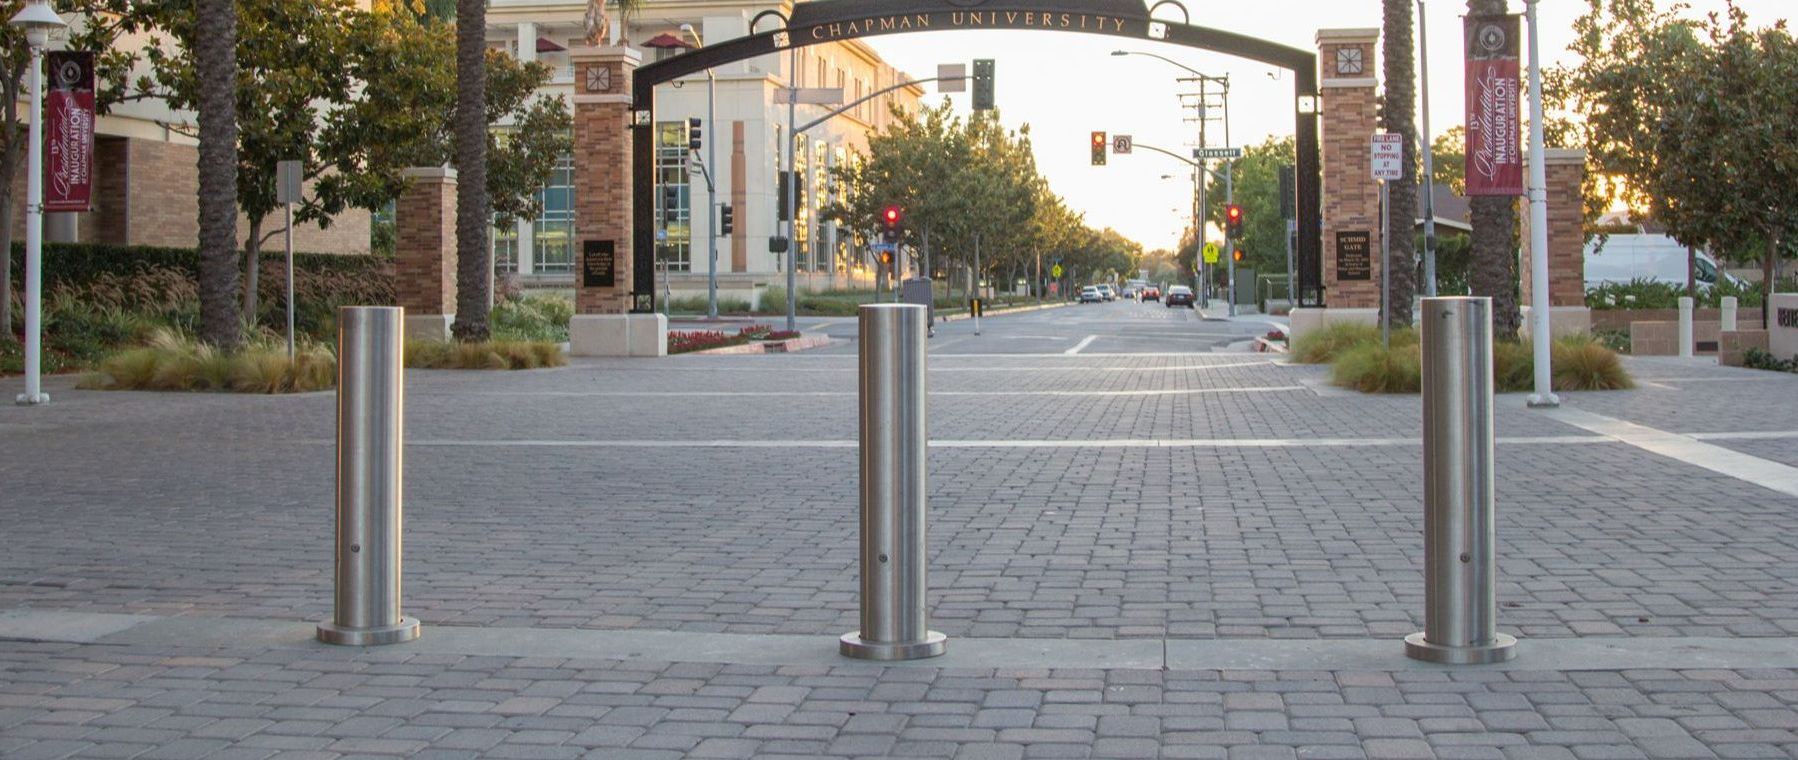bollard: (1398, 289, 1521, 669), (834, 300, 951, 667), (311, 301, 423, 650)
